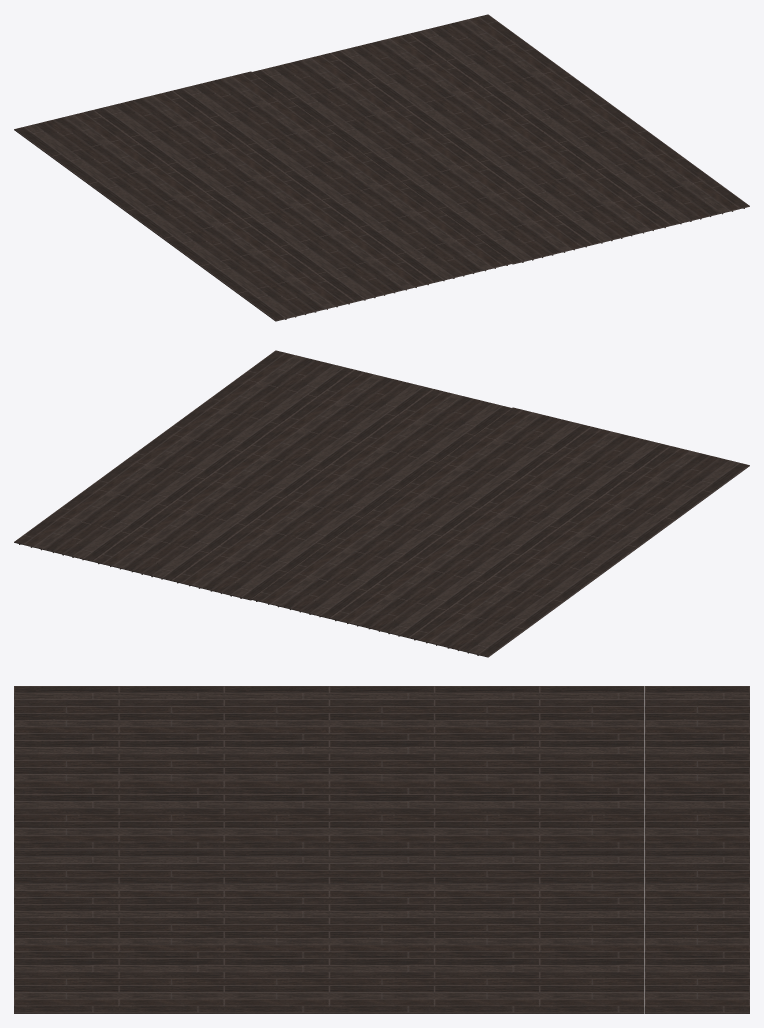
File: 8-1_Floor.fbx
The picture shows the model from 3 angles, top to bottom: view 1: azimuth 30°, elevation 25°; view 2: azimuth 150°, elevation 25°; view 3: azimuth 270°, elevation 25°; orthographic projection. The views are drawn at different scales.
Visible parts, largest first — view 1: 8-1_Floor; view 2: 8-1_Floor; view 3: 8-1_Floor.
Part boxes in pixels (x1,y1,x2,y2): 8-1_Floor: [14, 14, 749, 321]; 8-1_Floor: [14, 350, 749, 657]; 8-1_Floor: [14, 686, 749, 1013].
Size of the model in its own units: 9.04 by 0.045 by 8.64.
